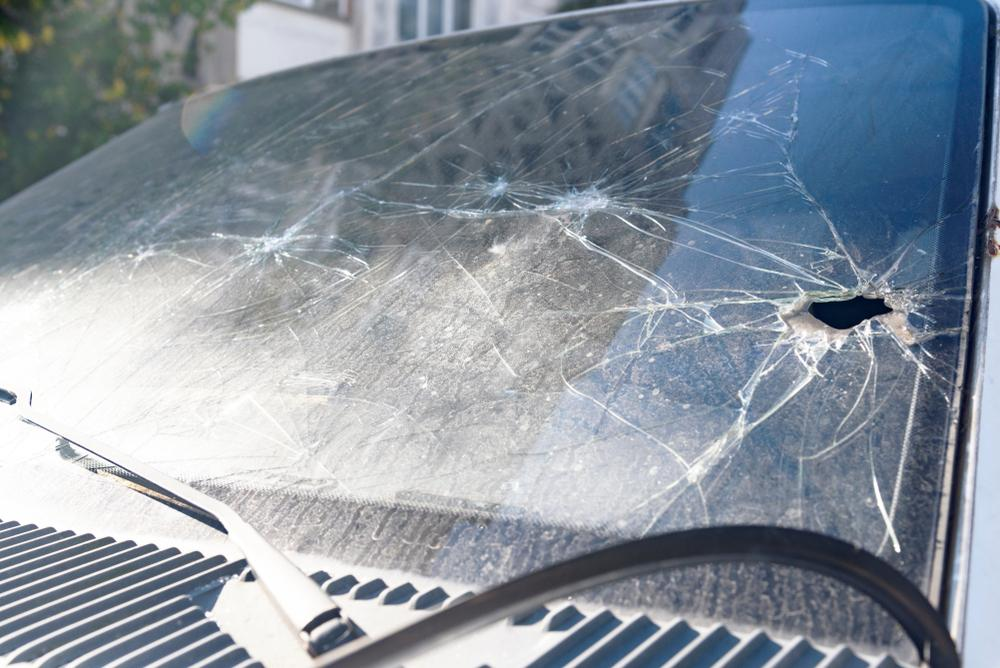glass shatter: (0, 0, 990, 663)
